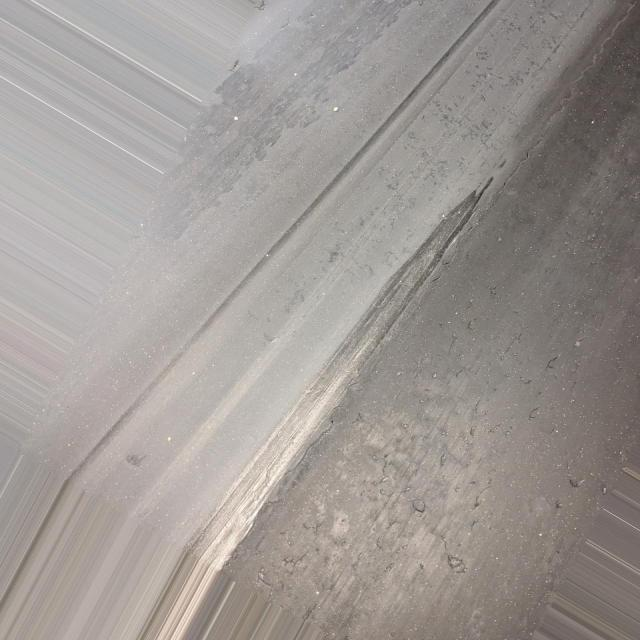impact damage: (191, 183, 489, 565)
